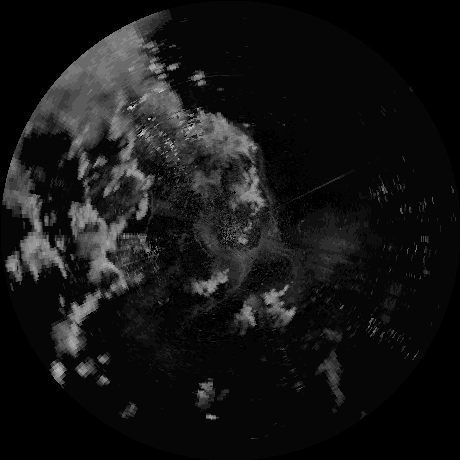frontgust: (257, 174, 275, 231), (196, 288, 236, 312), (145, 189, 154, 230)
